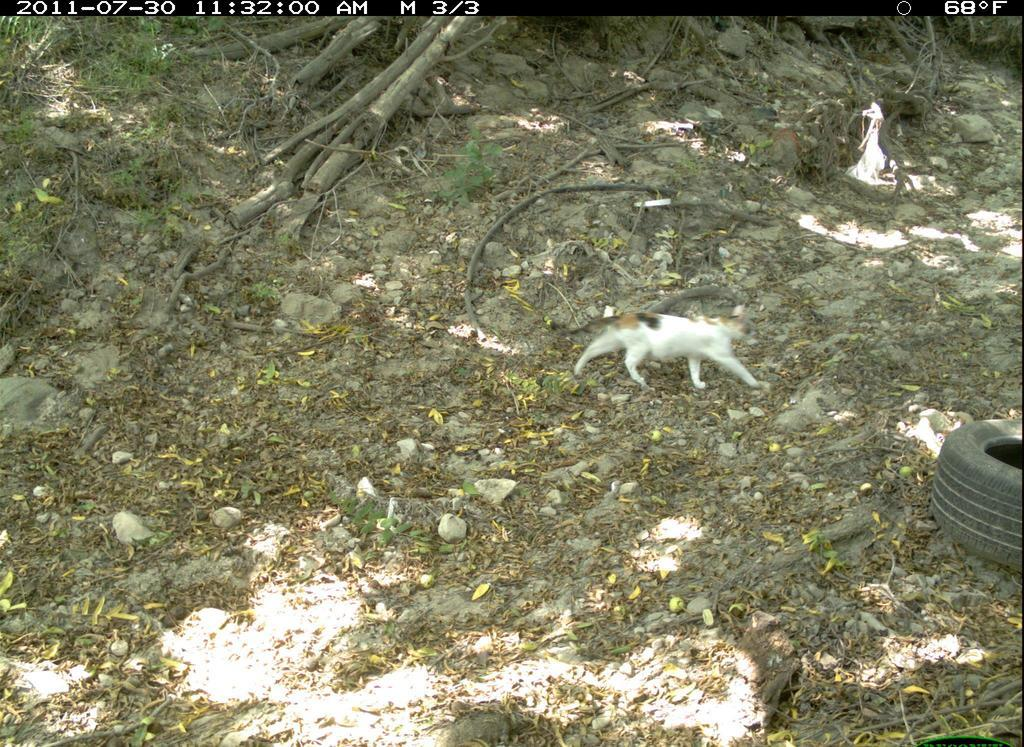cat: (536, 287, 799, 401)
